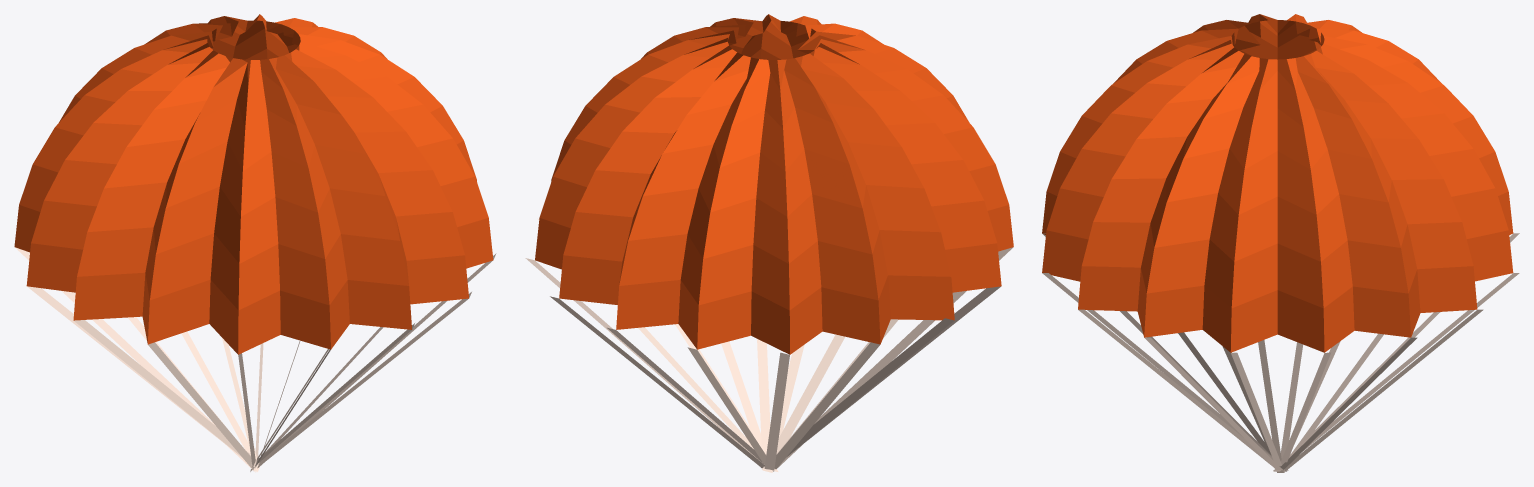
Rendered from Parachute.glb.
3 renders of one model, left to right at view 1: azimuth 30°, elevation 25°; view 2: azimuth 150°, elevation 25°; view 3: azimuth 270°, elevation 25°, orthographic.
Visible parts, largest first — view 1: Sphere; view 2: Sphere; view 3: Sphere.
Boxes of the visible parts, x1,y1,x2,y2 form: Sphere: (14, 14, 496, 472); Sphere: (525, 14, 1013, 472); Sphere: (1042, 14, 1519, 472).
Size of the model in its own units: 1.99 by 1.98 by 1.99.
